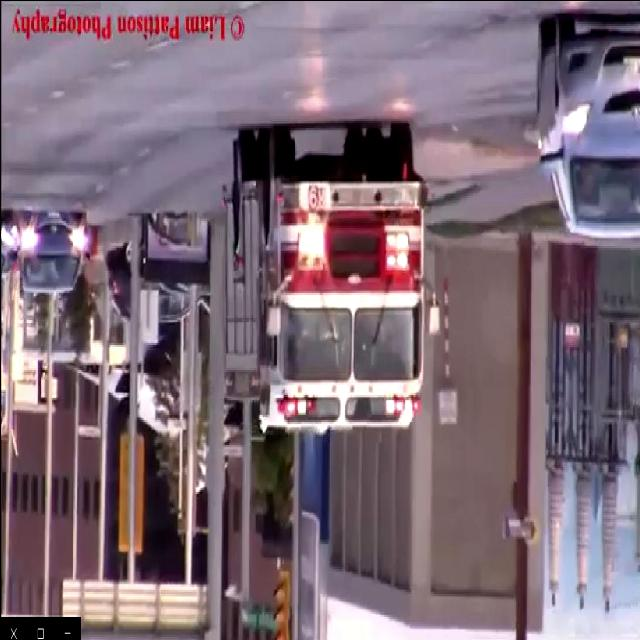emergency: (218, 108, 442, 436)
